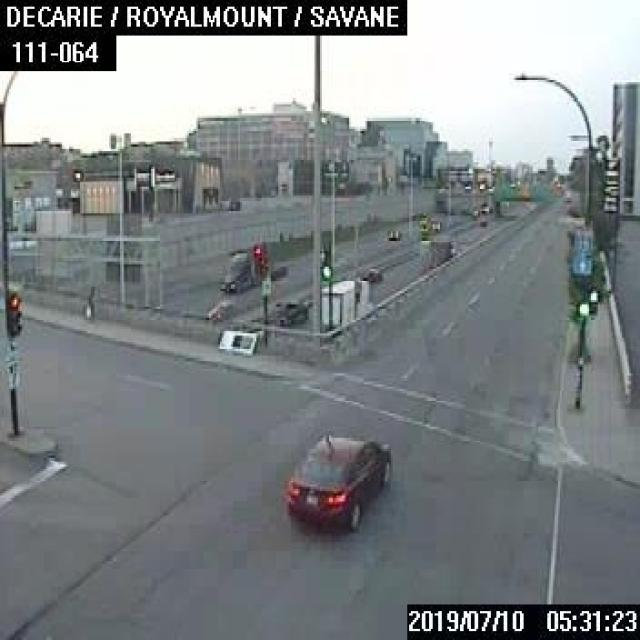vehicle: (284, 429, 392, 531), (320, 276, 368, 324), (215, 244, 258, 294), (270, 296, 309, 321), (270, 264, 288, 280), (386, 228, 400, 238)
